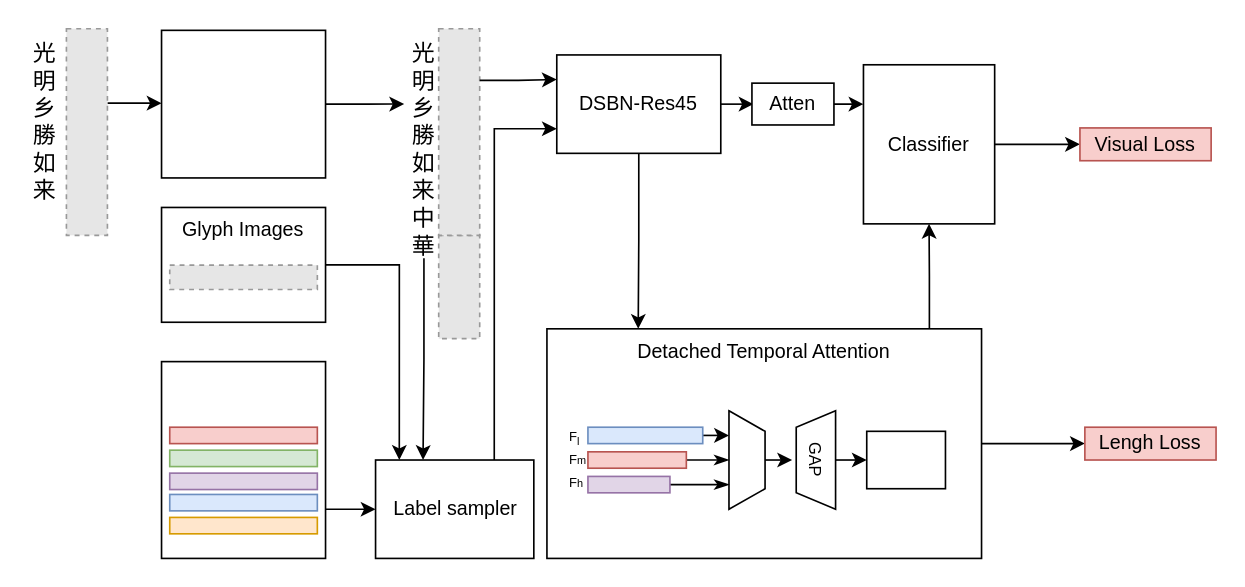
The diagram is 1245 pixels wide and 587 high, and some of its shapes have lost their labels. Grey dashed boxes stand in for pictures. Each missing label, with the centre of its shape:
Character Embeddings: [243,459]
Conv: [746,459]
De-context Augumentation: [243,103]
MLP: [905,459]
